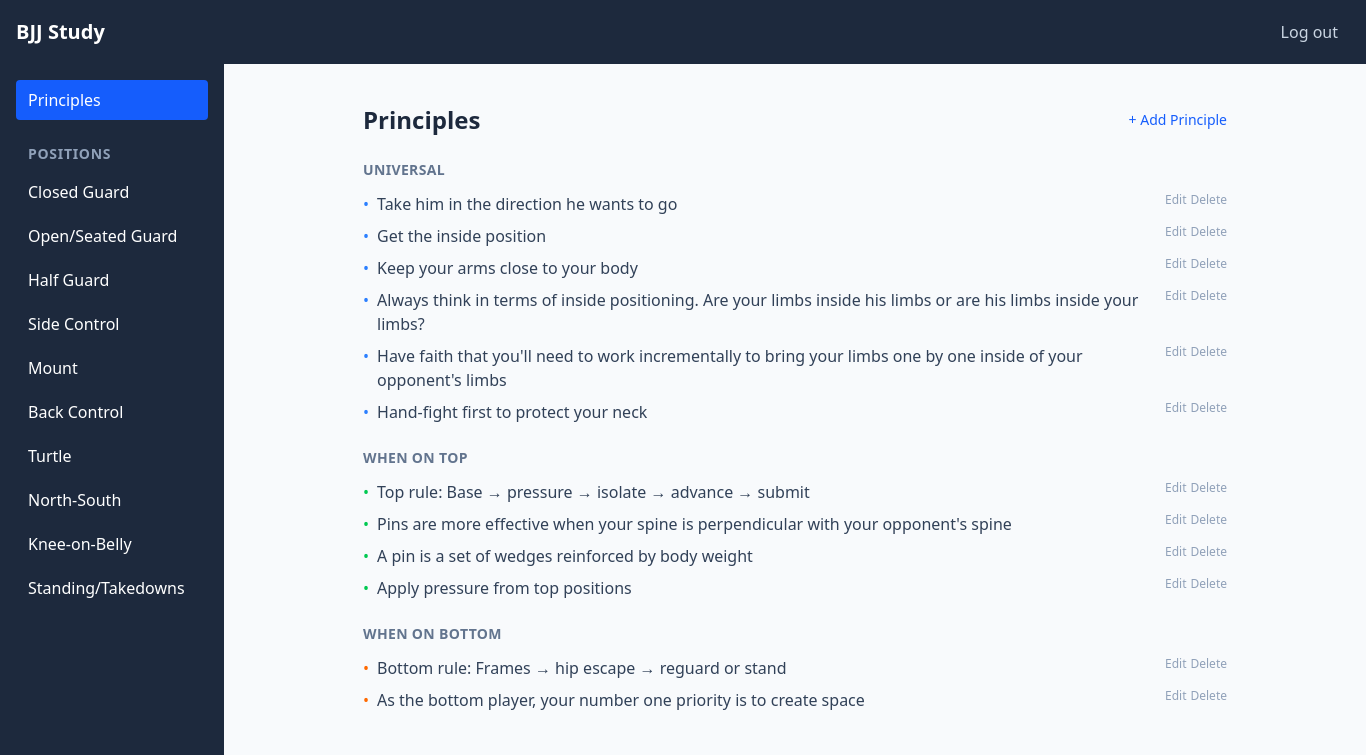
it: App › switches to PositionView when position selected
The width and height of the screenshot is (1366, 755).
Step 1. Click the button "Side Control" → (112, 324), box [16,304,208,344]
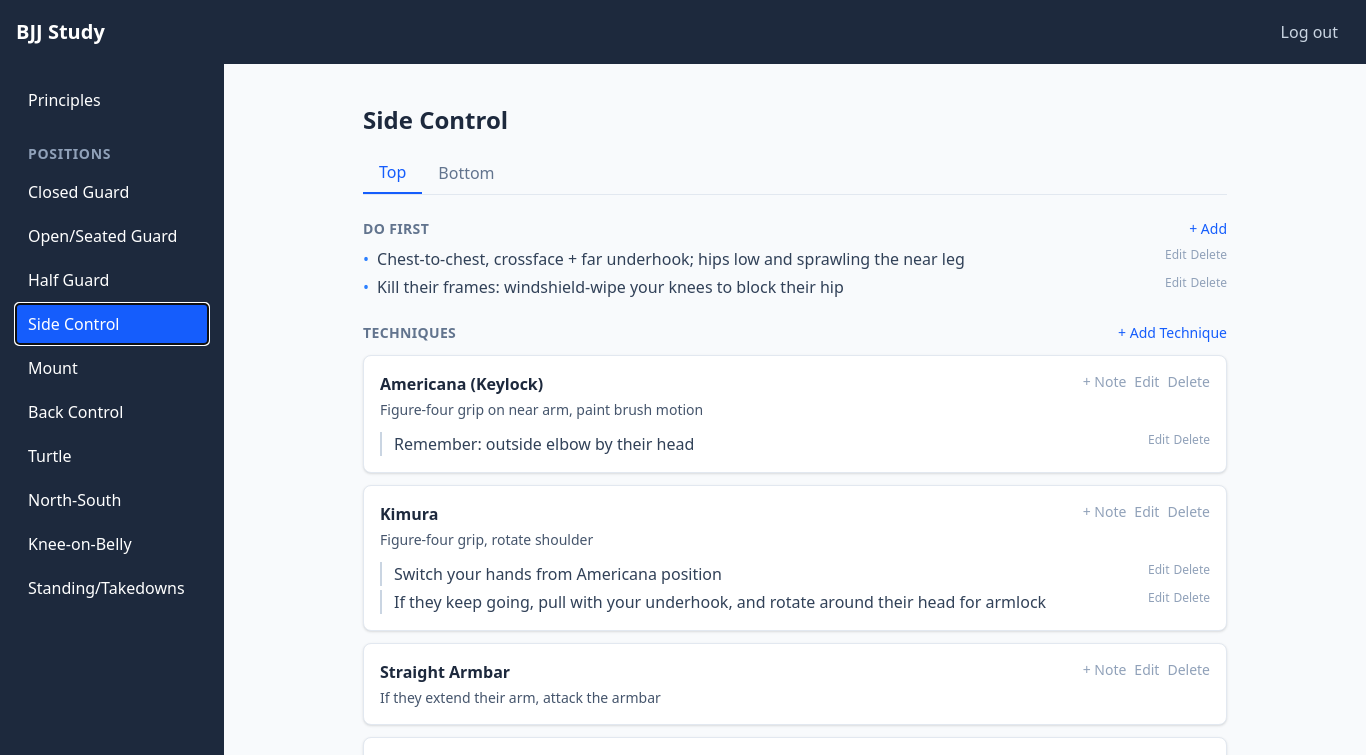
Expected: the heading "Side Control" is shown, [363,103,508,136]
